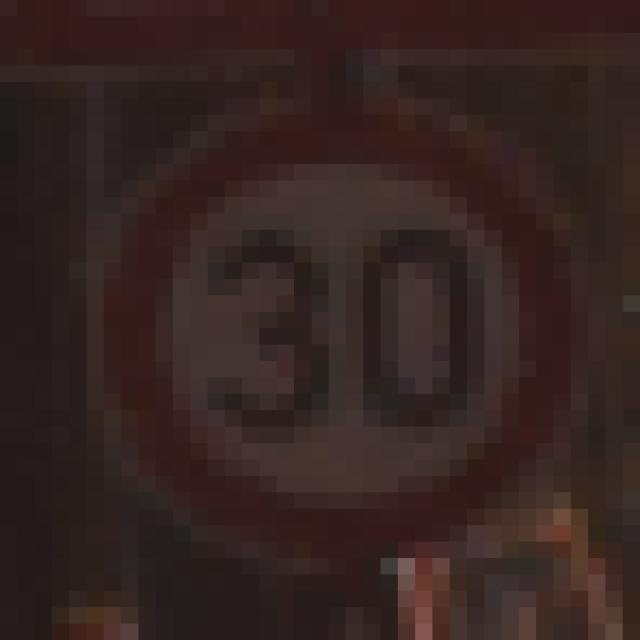Speed Limit -30-: (78, 90, 545, 534)
